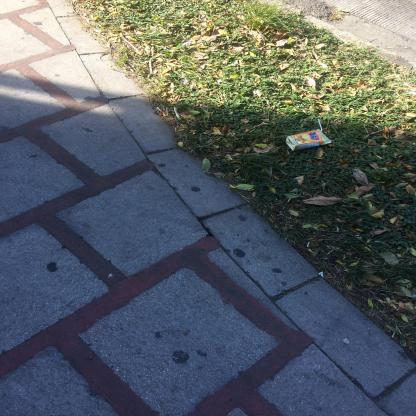karton: (286, 120, 334, 152)
